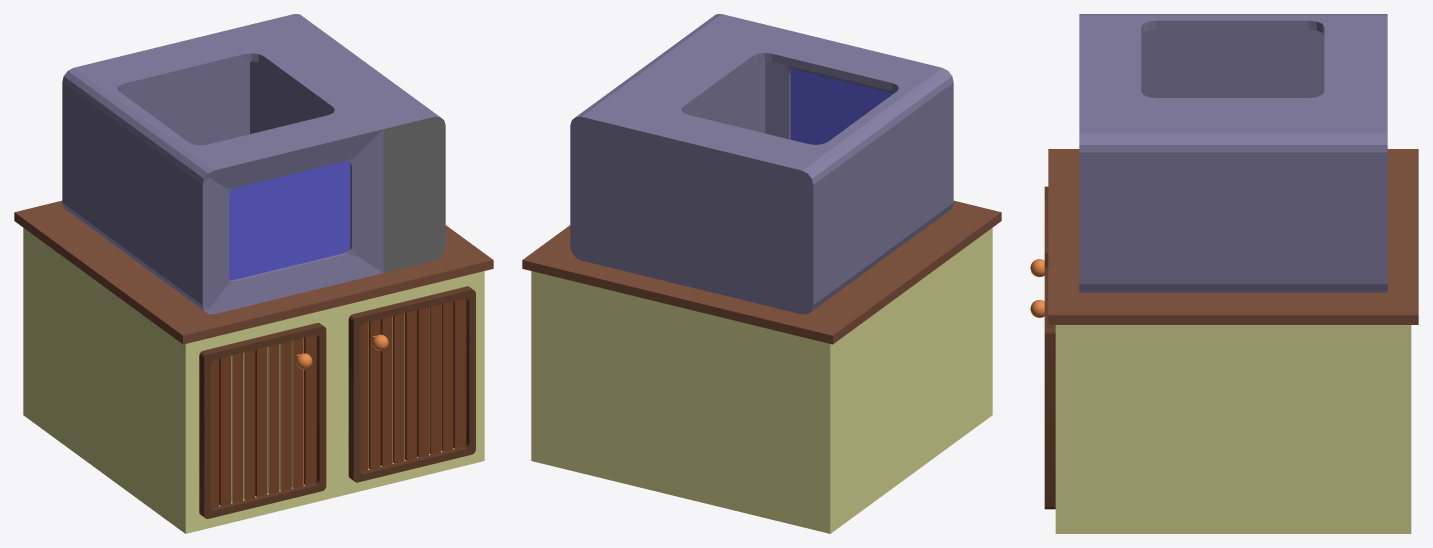
The model's file is Microwave.fbx.
3 renders of one model, left to right at view 1: azimuth 30°, elevation 25°; view 2: azimuth 150°, elevation 25°; view 3: azimuth 270°, elevation 25°, orthographic. The views are drawn at different scales.
Visible parts, largest first — view 1: MicrowaveCounter3D, Microwave, MicrowaveDoor; view 2: MicrowaveCounter3D, Microwave, MicrowaveDoor; view 3: MicrowaveCounter3D, Microwave, MicrowaveDoor.
Part boxes in pixels (box(x1,y1,x2,y2)): MicrowaveCounter3D: box(14, 200, 493, 533); Microwave: box(62, 14, 445, 301); MicrowaveDoor: box(187, 118, 383, 314); MicrowaveCounter3D: box(522, 200, 1001, 533); Microwave: box(570, 14, 938, 314); MicrowaveDoor: box(758, 26, 953, 219); MicrowaveCounter3D: box(1030, 149, 1418, 533); Microwave: box(1079, 14, 1387, 292); MicrowaveDoor: box(1079, 14, 1112, 106).
Size of the model in its own units: 336 by 332 by 358.
